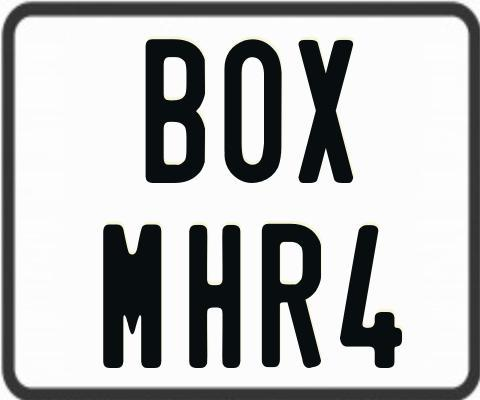0: (224, 38, 285, 183)
4: (338, 223, 403, 366)
B: (144, 36, 203, 180)
H: (189, 223, 241, 368)
M: (101, 223, 165, 367)
R: (260, 223, 322, 371)
X: (296, 40, 353, 187)
